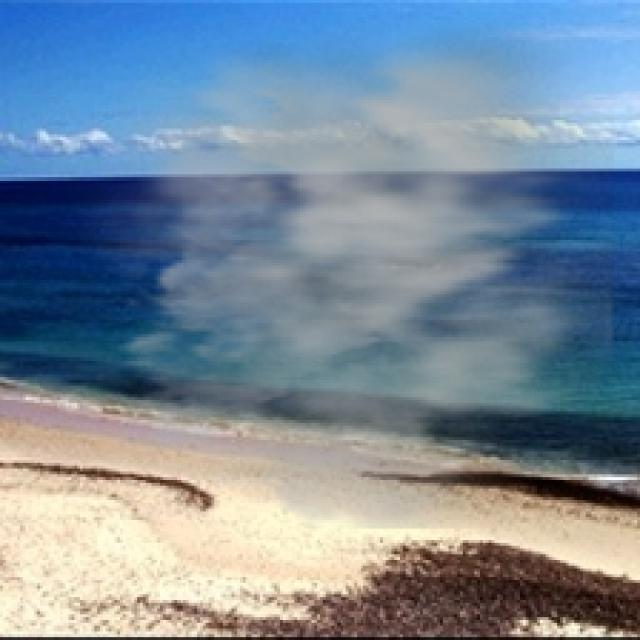Smoke: (57, 11, 614, 528)
